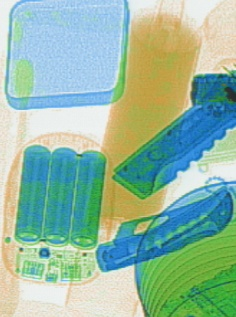knife: (111, 69, 234, 201), (94, 182, 232, 274)
powerbank: (3, 135, 117, 283)
